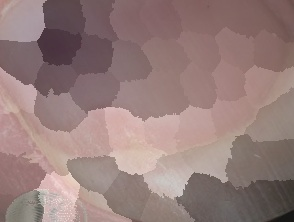Nail_psoriasis: (0, 42, 294, 222)
